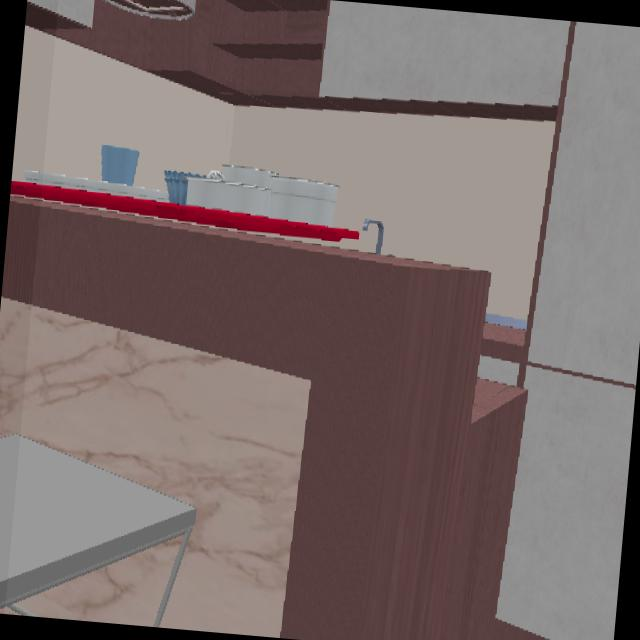cabinet: (55, 0, 640, 640)
